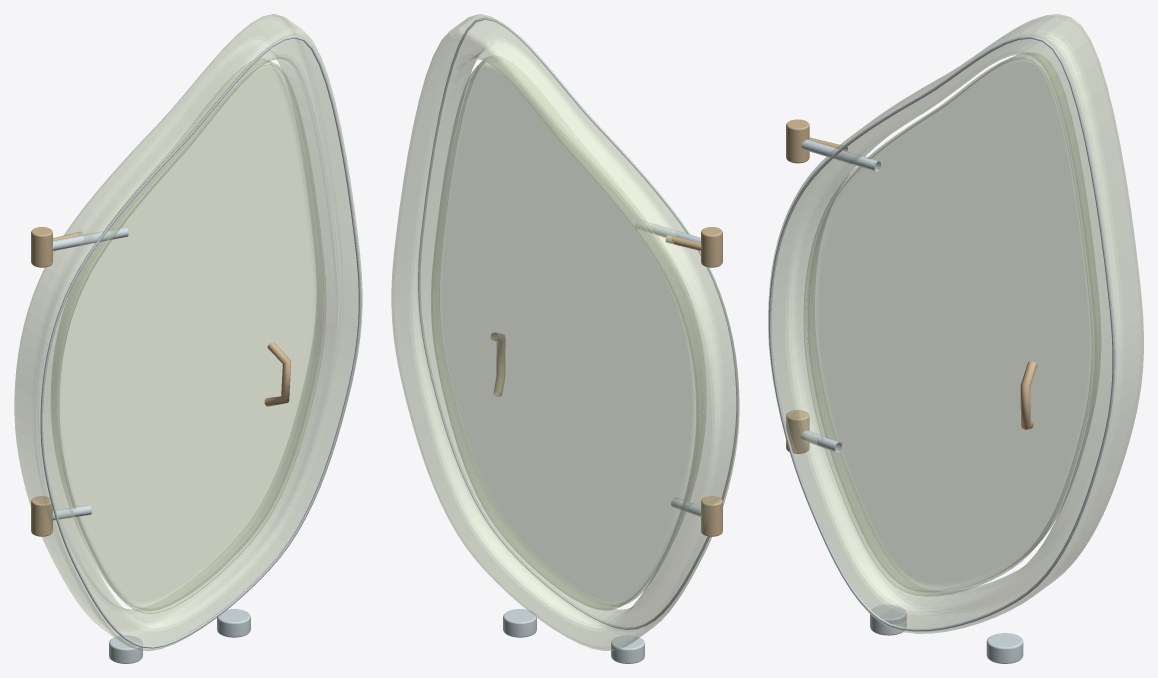
The model's file is seed.glb.
3 renders of one model, left to right at view 1: azimuth 30°, elevation 25°; view 2: azimuth 150°, elevation 25°; view 3: azimuth 330°, elevation 25°, orthographic. The views are drawn at different scales.
Parts seen in each view (by area): view 1: Moving_GlassLeaf.001, Fixed_GlassFrame.001, Fixed_SilverSeam.001, Moving_PolishedEdge.001, Fixed_Foot.003, Fixed_Hinge.003, Fixed_Hinge.002, Fixed_Foot.002, Moving_HingeStrap.003, Moving_Pull.001; view 2: Moving_GlassLeaf.001, Fixed_GlassFrame.001, Fixed_SilverSeam.001, Moving_PolishedEdge.001, Fixed_Foot.002, Fixed_Foot.003, Fixed_Hinge.003, Fixed_Hinge.002, Moving_Pull.001, Moving_HingeStrap.003; view 3: Moving_GlassLeaf.001, Fixed_GlassFrame.001, Moving_PolishedEdge.001, Fixed_SilverSeam.001, Fixed_Foot.003, Fixed_Hinge.003, Fixed_Foot.002, Moving_HingeStrap.003, Fixed_Hinge.002, Moving_Pull.001.
Boxes of the visible parts, x1,y1,x2,y2 form: Moving_GlassLeaf.001: (51,58,322,610); Fixed_GlassFrame.001: (14,14,362,650); Fixed_SilverSeam.001: (40,35,361,648); Moving_PolishedEdge.001: (56,61,326,613); Fixed_Foot.003: (217,609,250,637); Fixed_Hinge.003: (31,227,52,267); Fixed_Hinge.002: (31,496,52,536); Fixed_Foot.002: (109,635,142,663); Moving_HingeStrap.003: (52,227,128,250); Moving_Pull.001: (264,341,290,406); Moving_GlassLeaf.001: (431,58,702,610); Fixed_GlassFrame.001: (391,14,739,650); Fixed_SilverSeam.001: (418,17,738,629); Moving_PolishedEdge.001: (437,55,706,606); Fixed_Foot.002: (611,635,644,663); Fixed_Foot.003: (503,609,536,637); Fixed_Hinge.003: (701,227,722,267); Fixed_Hinge.002: (701,496,722,536); Moving_Pull.001: (490,332,505,396); Moving_HingeStrap.003: (635,220,700,242); Moving_GlassLeaf.001: (807,52,1100,593); Fixed_GlassFrame.001: (768,14,1143,633); Moving_PolishedEdge.001: (803,56,1094,596); Fixed_SilverSeam.001: (769,36,1115,631); Fixed_Foot.003: (986,633,1023,663); Fixed_Hinge.003: (786,119,809,163); Fixed_Foot.002: (870,605,906,635); Moving_HingeStrap.003: (801,139,880,171); Fixed_Hinge.002: (786,410,809,453); Moving_Pull.001: (1020,361,1037,429).
Size of the model in its own units: 2 by 3.49 by 0.3297.
